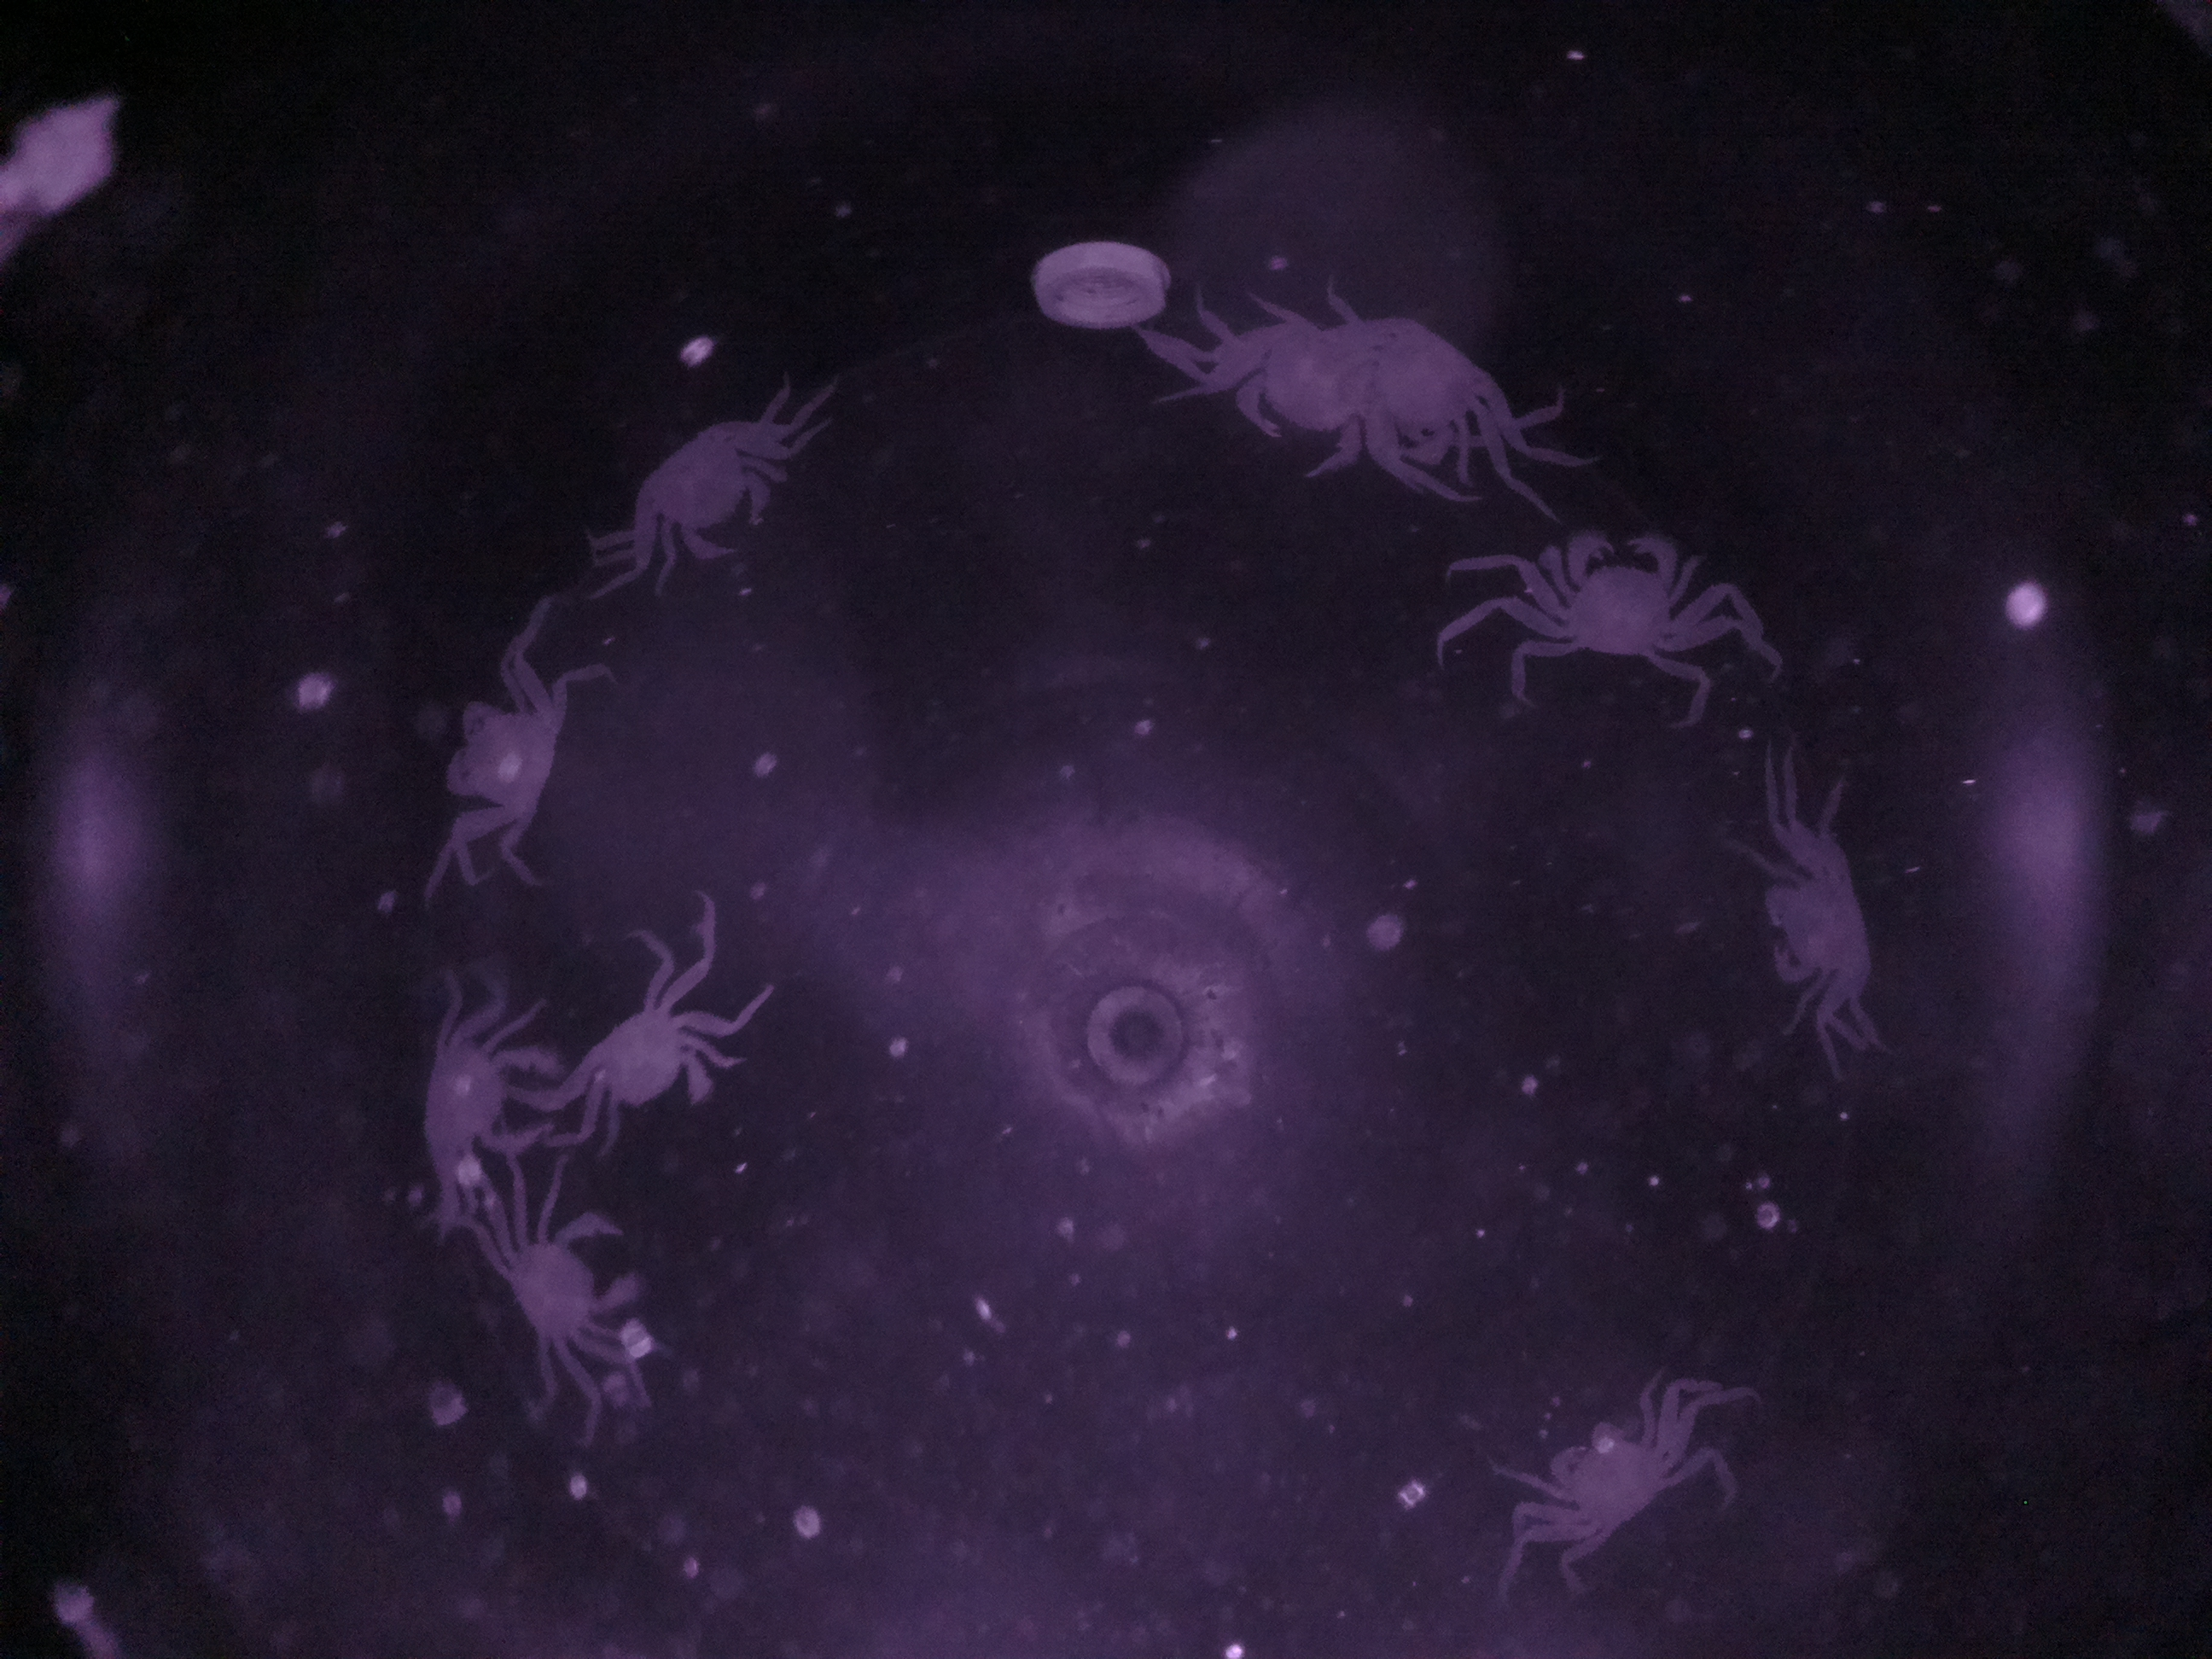Crab: (1742, 824, 1911, 1047), (1505, 511, 1717, 683), (406, 652, 585, 856), (475, 1187, 653, 1382), (617, 383, 786, 587), (563, 967, 738, 1159), (1527, 1382, 1712, 1561), (397, 974, 561, 1173)
